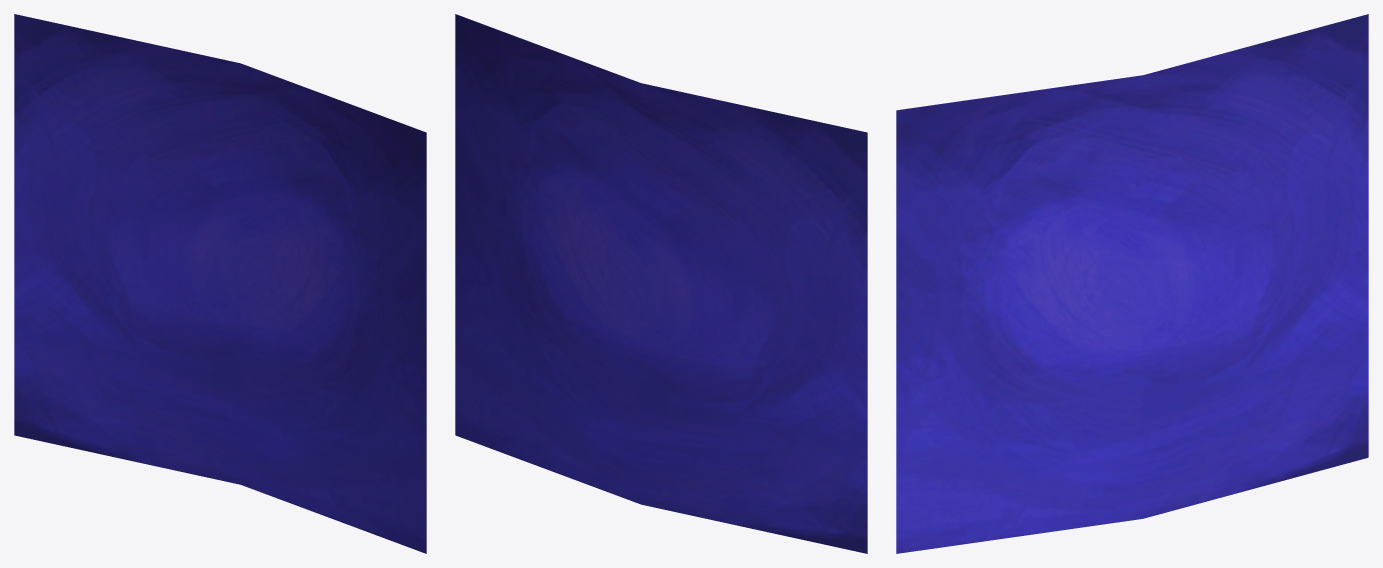
Rendered from SWORDLIGHT20_PS-AREA05-RANGE05_03.fbx.
3 views of the same model, side by side, from view 1: azimuth 30°, elevation 25°; view 2: azimuth 210°, elevation 25°; view 3: azimuth 270°, elevation 25° (orthographic). The views are drawn at different scales.
Visible parts, largest first — view 1: SWORDLIGHT20_PS-AREA05-RANGE05_03; view 2: SWORDLIGHT20_PS-AREA05-RANGE05_03; view 3: SWORDLIGHT20_PS-AREA05-RANGE05_03.
Part boxes in pixels (<box>): SWORDLIGHT20_PS-AREA05-RANGE05_03: <box>14,14,426,553</box>; SWORDLIGHT20_PS-AREA05-RANGE05_03: <box>455,14,867,553</box>; SWORDLIGHT20_PS-AREA05-RANGE05_03: <box>896,14,1368,553</box>.
Size of the model in its own units: 149673 by 321356 by 310189.
Materials: 1 (1 with a texture image).
